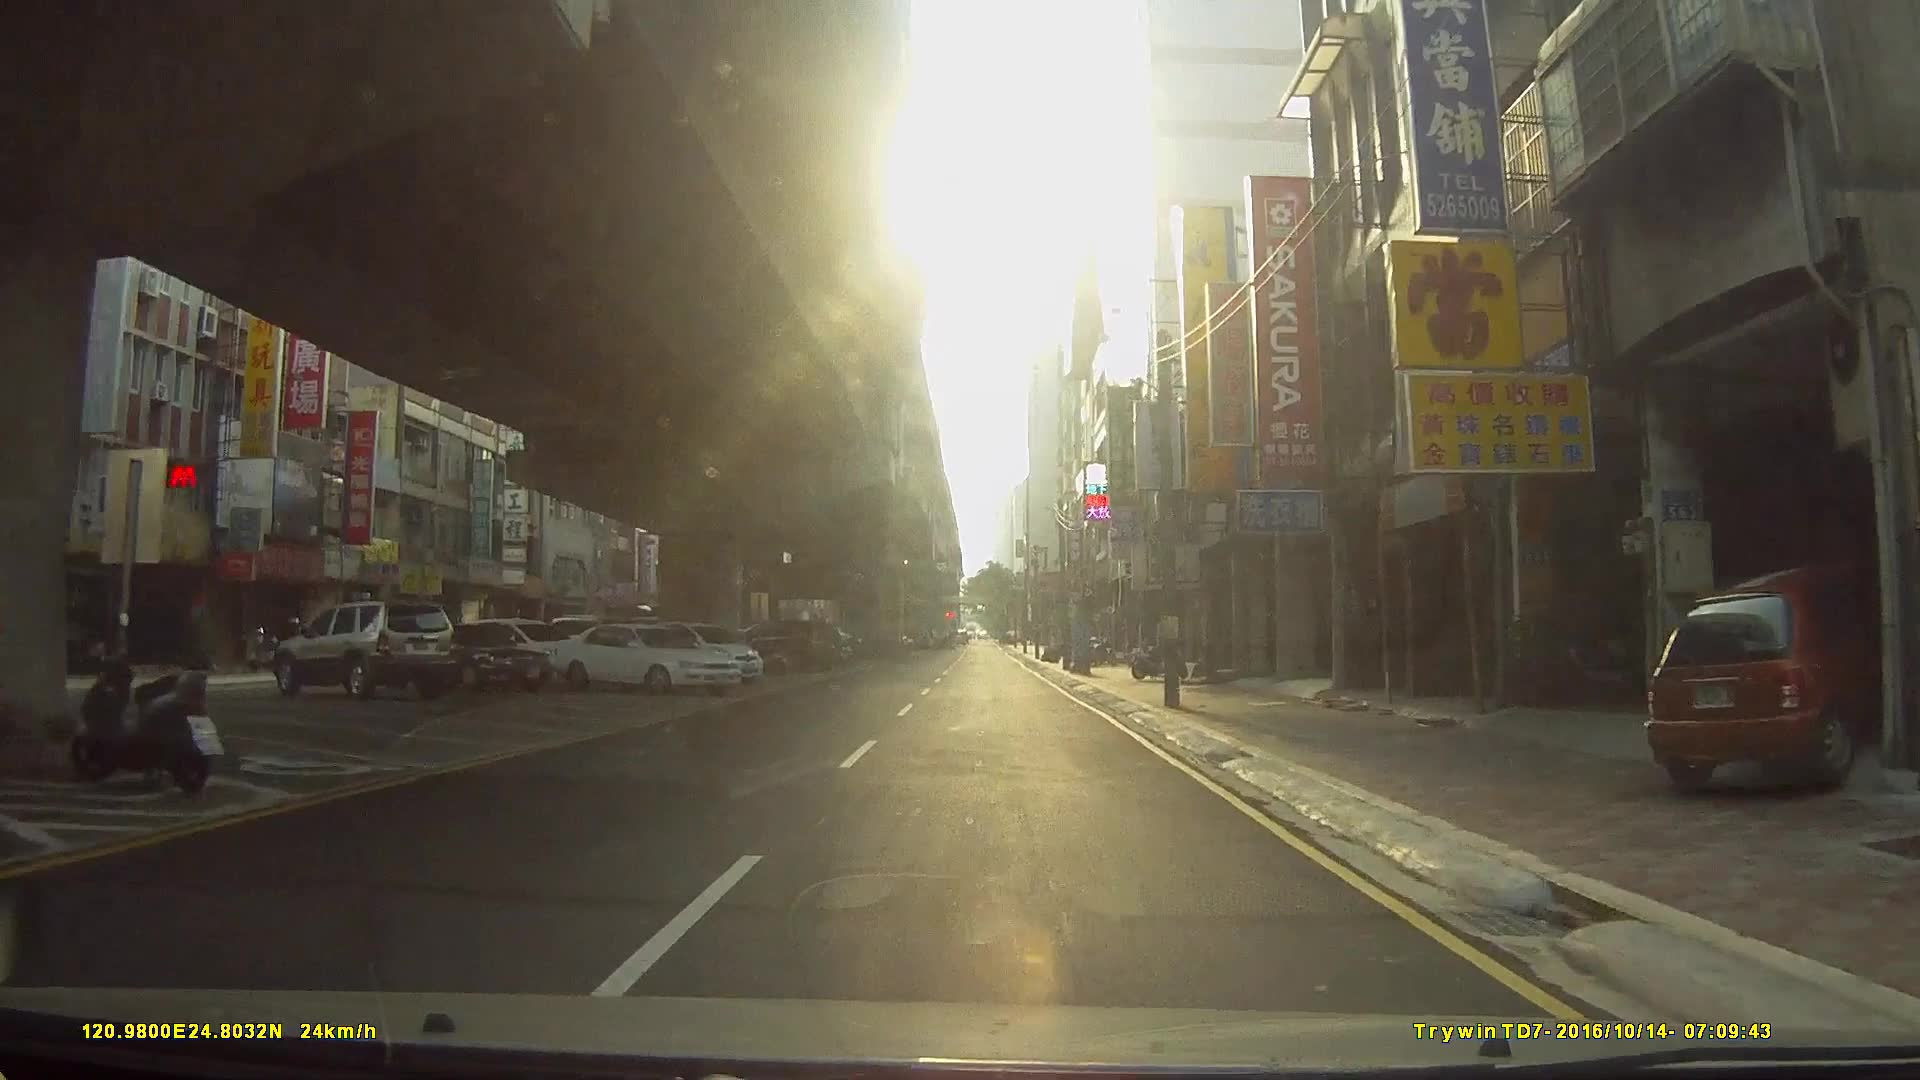vehicle: (1644, 559, 1880, 793), (273, 601, 459, 702), (360, 620, 553, 694), (547, 622, 746, 691)
